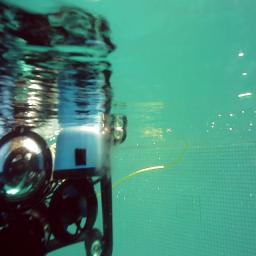front: (0, 127, 123, 252)
